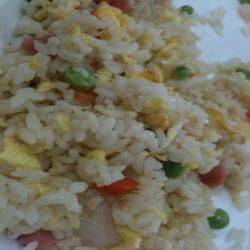rice: (8, 5, 206, 206)
